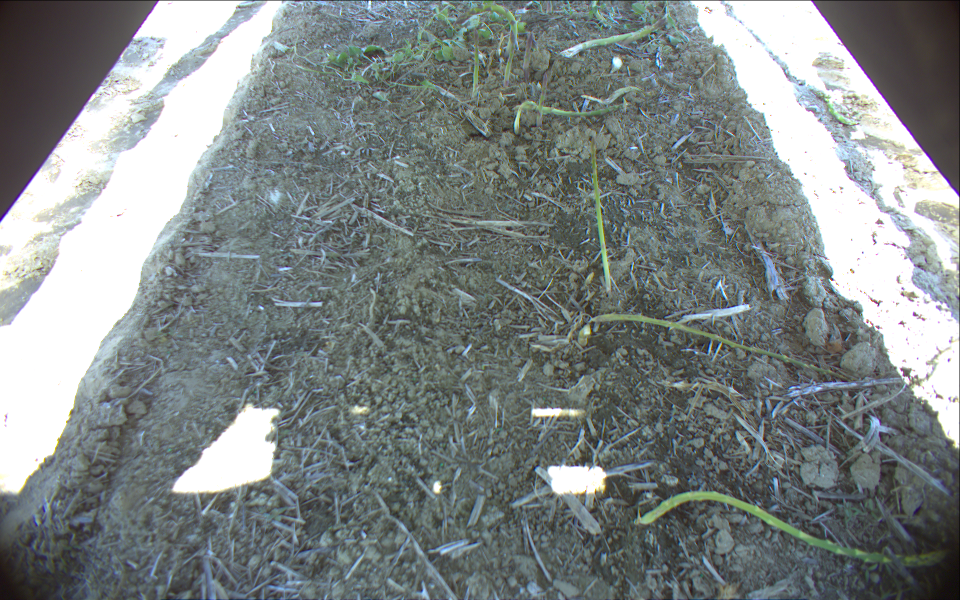aspa: (582, 135, 618, 298), (535, 67, 554, 129), (500, 27, 517, 91), (517, 31, 538, 81), (469, 26, 484, 95)
